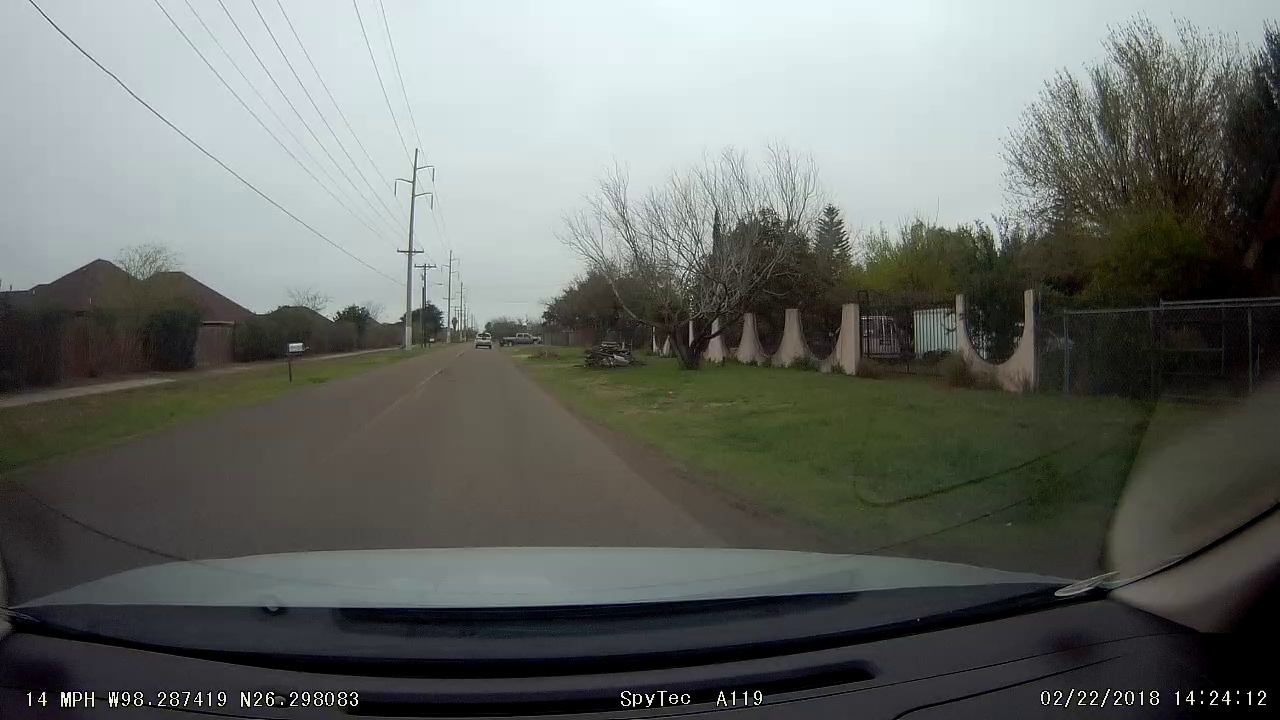blurredLine: (314, 405, 409, 469)
